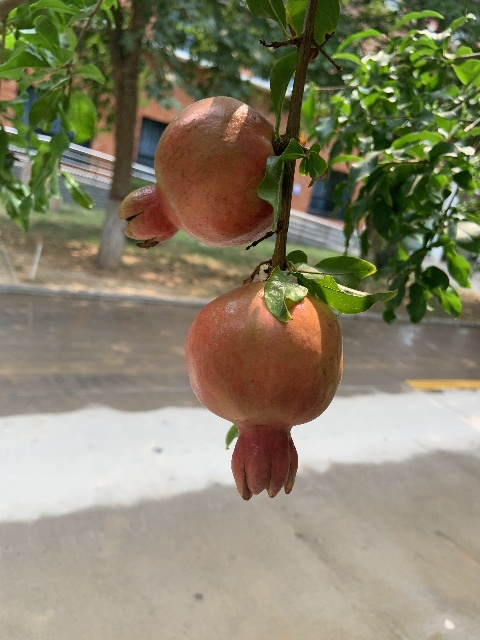ripe: (183, 279, 345, 502), (118, 96, 276, 249)
